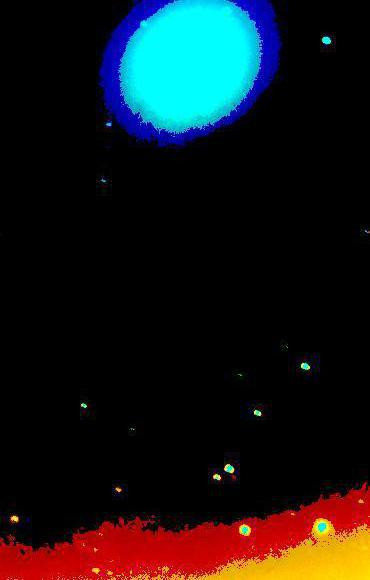star: (218, 463, 248, 493)
